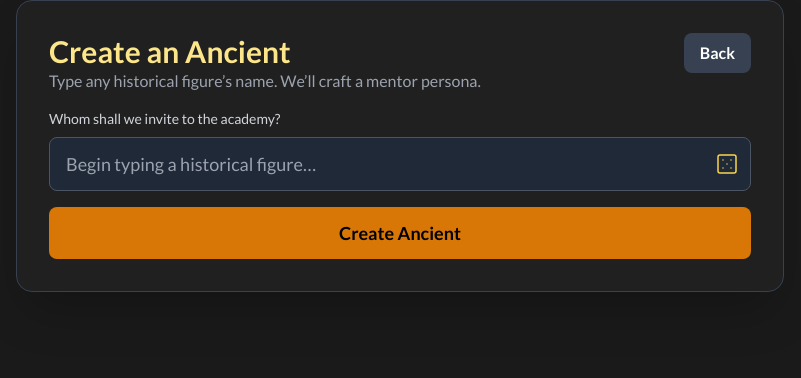
Test: CharacterCreator › renders correctly and shows initial suggestions on focus
Check: the heading "Create an Ancient" is shown, box x1=49 y1=33 x2=291 y2=69
Focus the field with placeholder "Begin typing a historical figure…": (400, 164) x1=49 y1=137 x2=751 y2=191
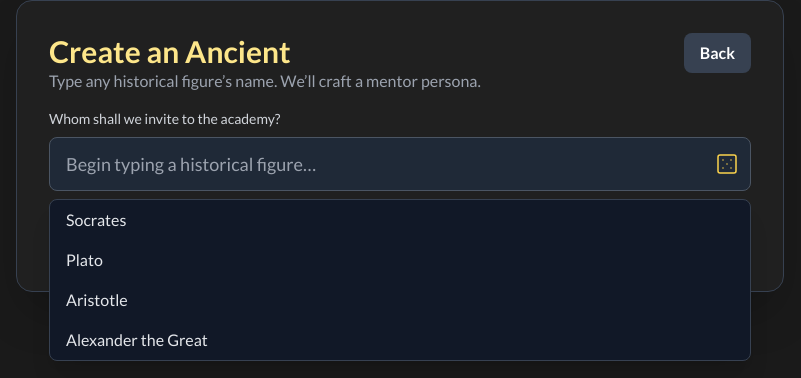
Check: the button "Socrates" is shown, box x1=50 y1=200 x2=750 y2=240
Check: the button "Plato" is shown, box x1=50 y1=240 x2=750 y2=280
